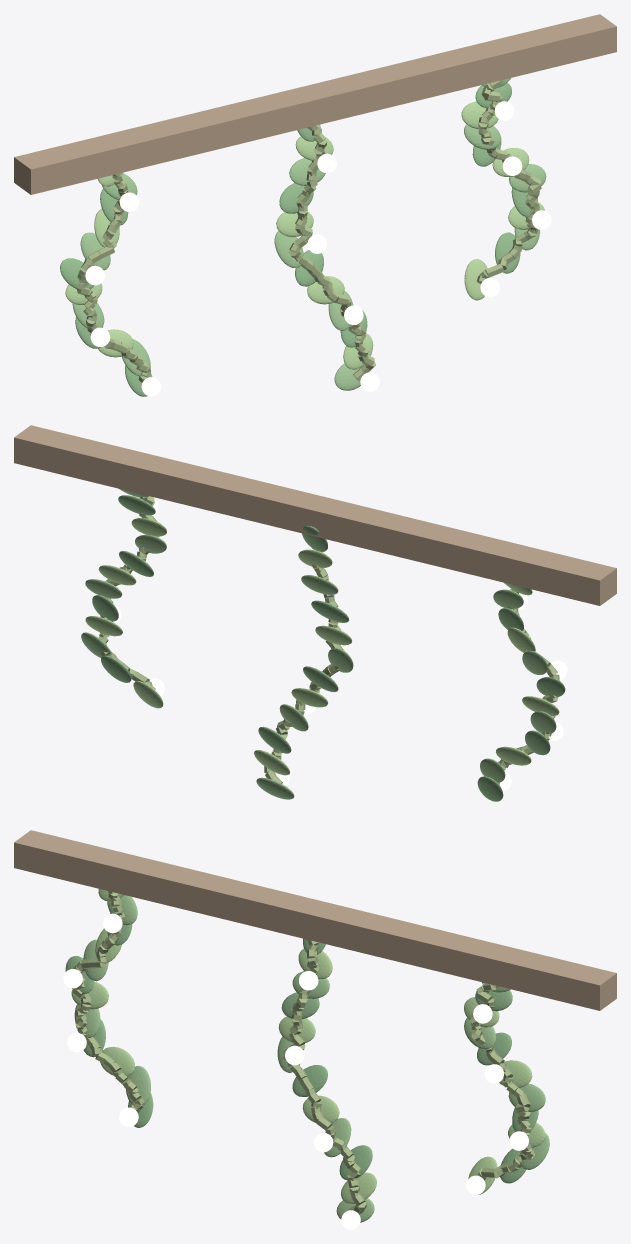
The model's file is vines.glb.
The picture shows the model from 3 angles, top to bottom: view 1: azimuth 30°, elevation 25°; view 2: azimuth 150°, elevation 25°; view 3: azimuth 330°, elevation 25°; orthographic projection.
Visible parts, largest first — view 1: beam, stem1, stem2, stem0, leaf2_59, leaf1_19, leaf1_29, leaf0_24, leaf1_24, leaf2_54, leaf1_39, leaf0_29 (+4 smaller); view 2: beam, stem1, stem2, stem0; view 3: beam, stem1, stem0, stem2, leaf1_34, leaf1_49, leaf0_49, leaf1_54, leaf0_54, leaf1_39, leaf2_24, leaf2_34.
Part boxes in pixels (left/top/right/bottom): beam: left=14, top=14, right=616, bottom=194; stem1: left=289, top=124, right=375, bottom=381; stem2: left=476, top=79, right=541, bottom=283; stem0: left=77, top=173, right=150, bottom=382; leaf2_59: left=464, top=259, right=489, bottom=300; leaf1_19: left=279, top=183, right=313, bottom=213; leaf1_29: left=274, top=231, right=303, bottom=267; leaf0_24: left=80, top=232, right=110, bottom=270; leaf1_24: left=276, top=212, right=313, bottom=236; leaf2_54: left=495, top=232, right=520, bottom=273; leaf1_39: left=307, top=276, right=344, bottom=304; leaf0_29: left=60, top=258, right=94, bottom=289; beam: left=14, top=425, right=616, bottom=605; stem1: left=264, top=548, right=345, bottom=783; stem2: left=99, top=496, right=159, bottom=689; stem0: left=498, top=588, right=559, bottom=784; beam: left=14, top=830, right=616, bottom=1010; stem1: left=283, top=939, right=366, bottom=1214; stem0: left=72, top=891, right=144, bottom=1112; stem2: left=470, top=983, right=534, bottom=1180; leaf1_34: left=292, top=1065, right=327, bottom=1096; leaf1_49: left=339, top=1145, right=372, bottom=1180; leaf0_49: left=100, top=1046, right=134, bottom=1076; leaf1_54: left=341, top=1172, right=376, bottom=1203; leaf0_54: left=126, top=1066, right=150, bottom=1105; leaf1_39: left=302, top=1095, right=339, bottom=1123; leaf2_24: left=477, top=1032, right=511, bottom=1065; leaf2_34: left=508, top=1083, right=545, bottom=1111.
Bounding box in the file's own units: 2.4 × 1.2 × 0.2128.
